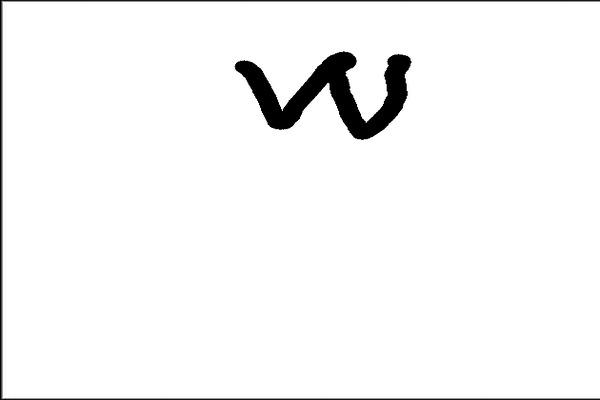w: (227, 32, 435, 152)
